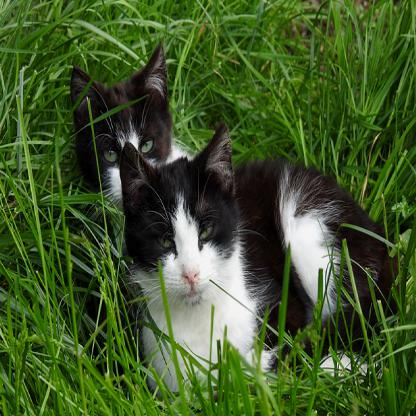cat: (119, 123, 392, 378), (71, 45, 179, 205)
